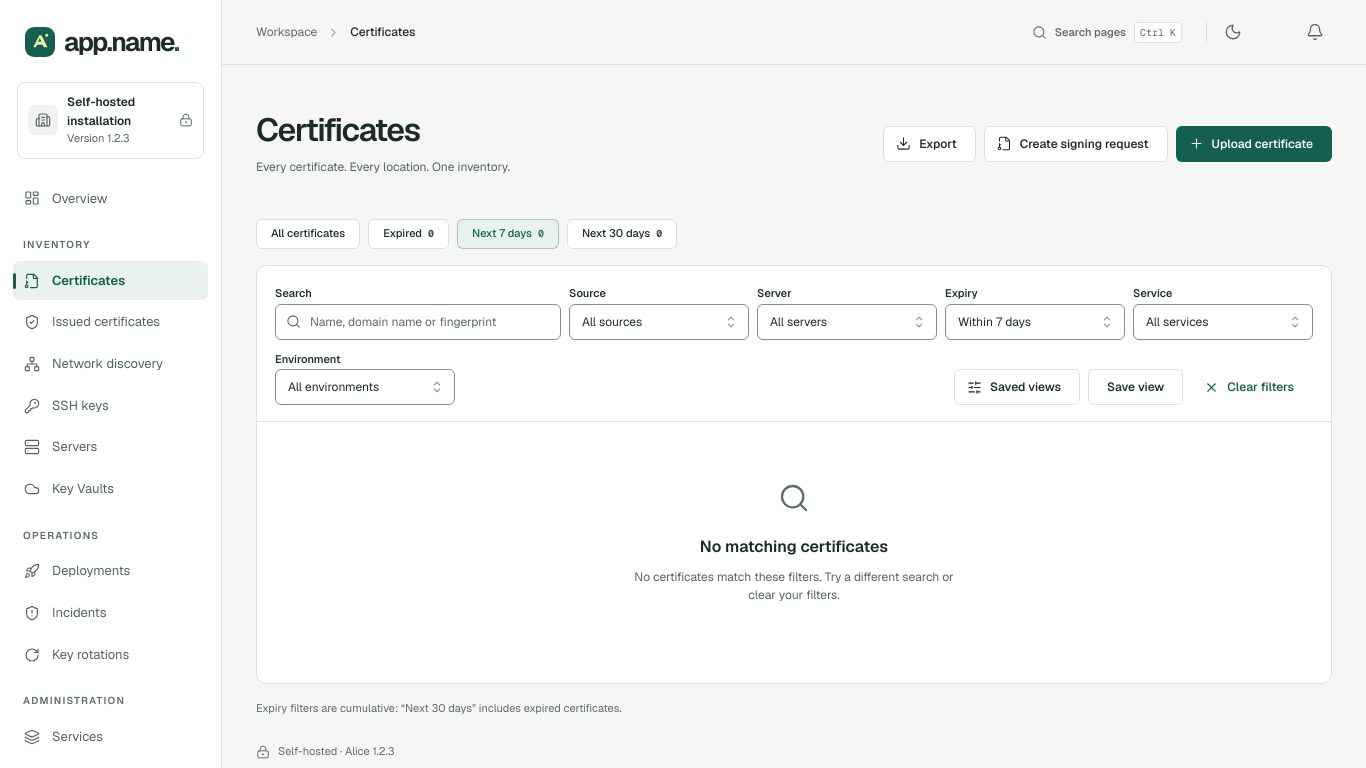
Scenario: CertificatesPage › clears the filters from the no-match state
expect the text "No certificates match these filters." is shown: met, box [634, 569, 822, 585]
expect the text "Try a different search or clear your filters." is shown: met, box [748, 569, 954, 603]
Click the button "Clear filters": point(1252, 387) [1191, 369, 1313, 405]
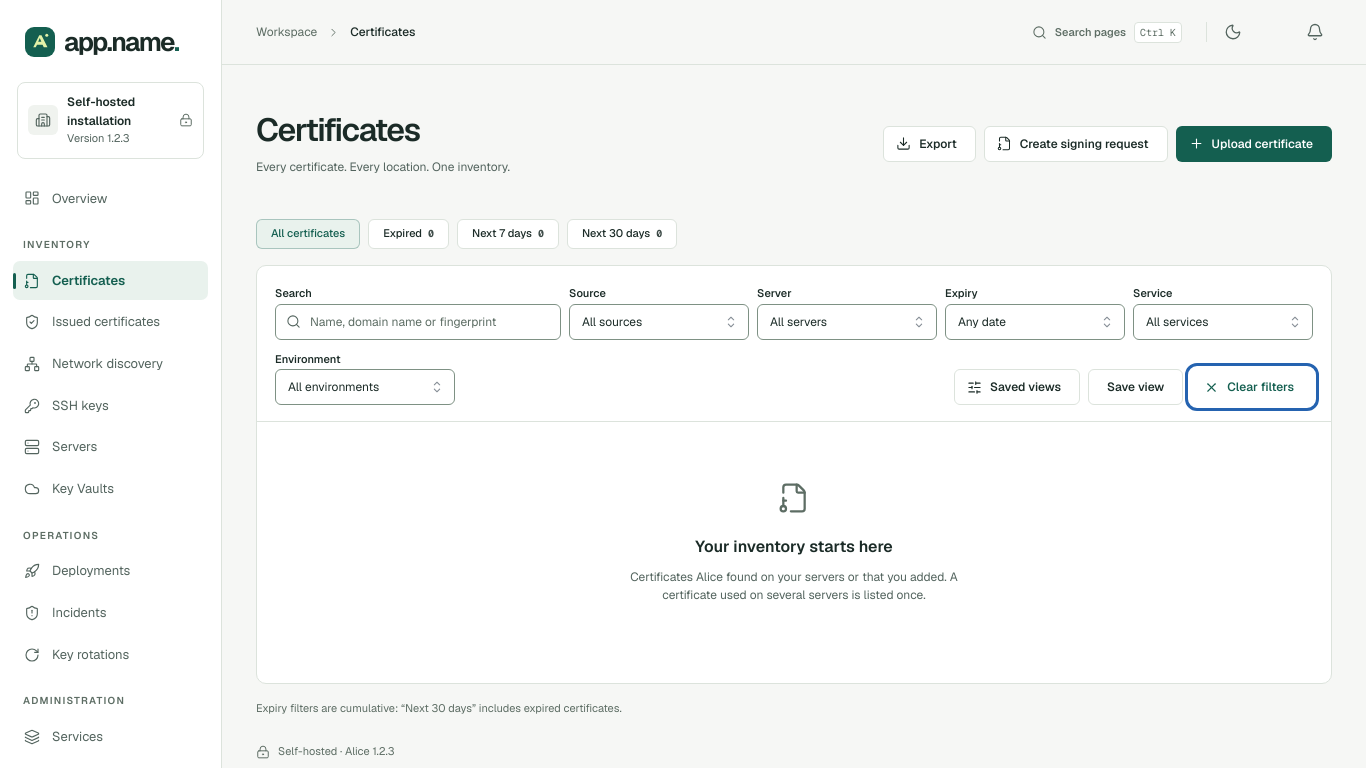
expect the text "Your inventory starts here" is shown: met, box [695, 536, 893, 557]
